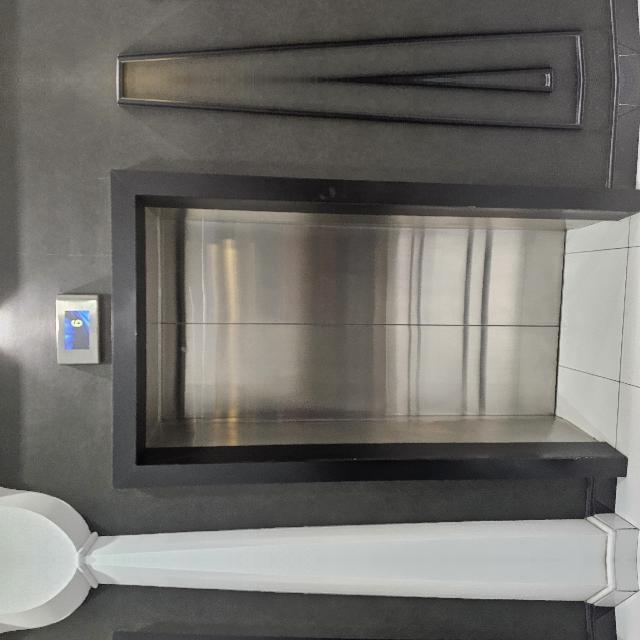door: (56, 179, 402, 640), (56, 403, 402, 640)
